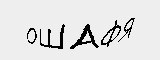А: (72, 22, 98, 51)
О: (23, 26, 36, 45)
Ф: (99, 19, 122, 47)
Ш: (37, 22, 66, 50)
Я: (117, 17, 137, 46)
